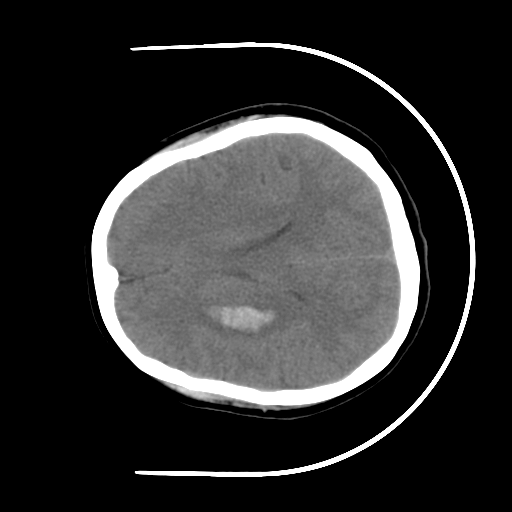a: (182, 282, 305, 348)
